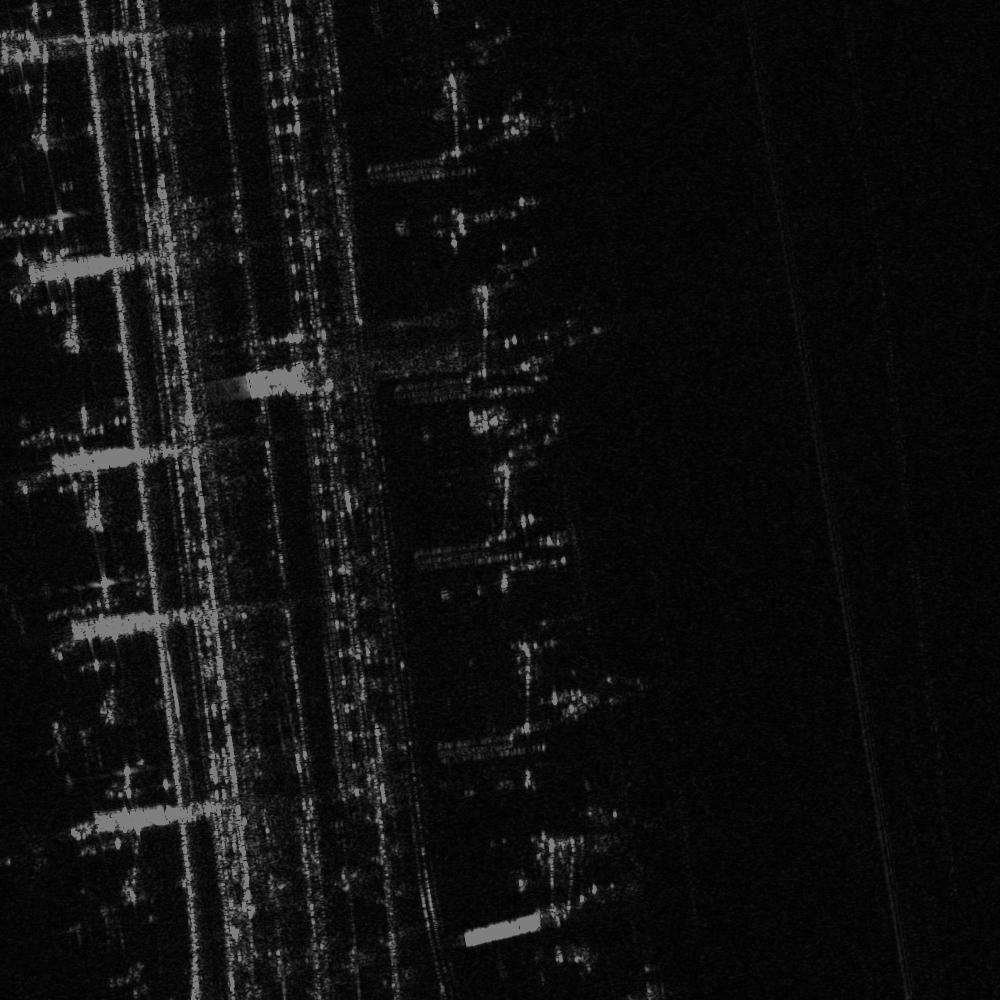Boeing787: (65, 886, 123, 950), (1, 823, 56, 883)
